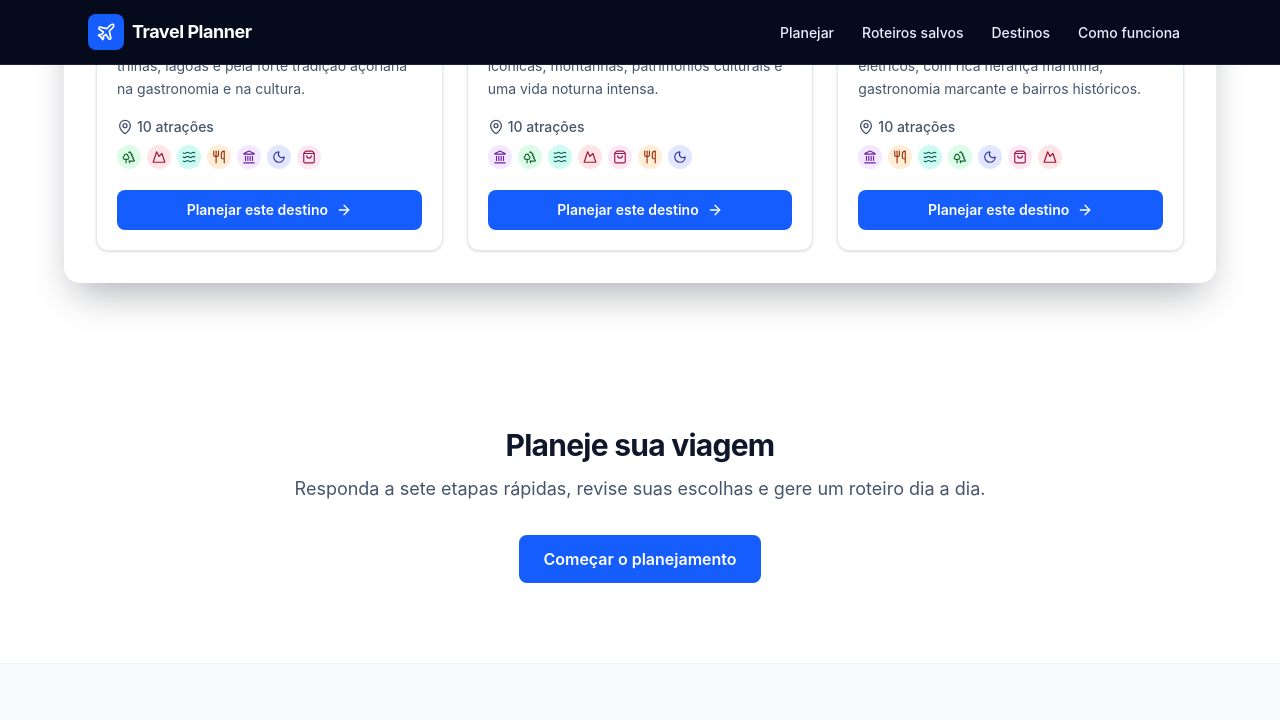
Test: Nova home — ações preservadas › escolher um destino marca o card e abre o planejamento progressivo
(page scrolled)
Click the button "Planejar este destino" below "Portugal" at (1011, 210), box [858,190,1163,230]
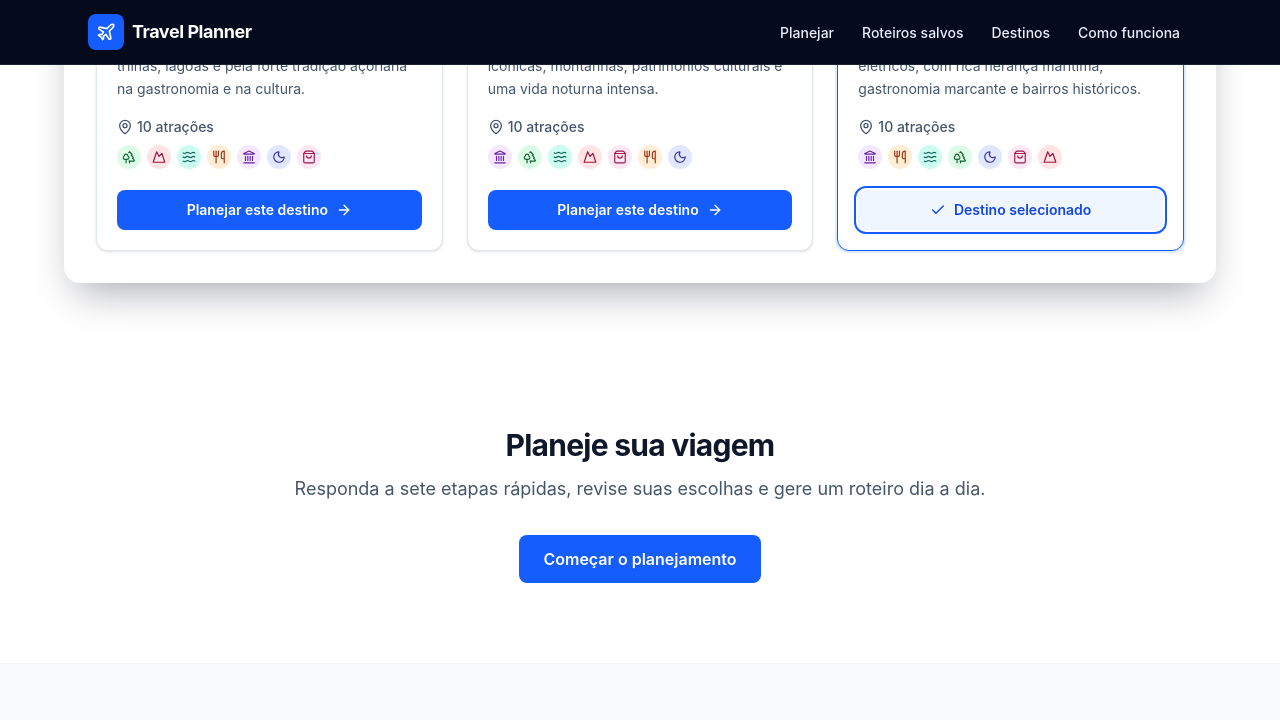
Check: the number of buttons "Planejar este destino" is 2, box [117,190,422,230]; [488,190,792,230]
Check: the button "Destino selecionado" is shown, box [858,190,1163,230]
